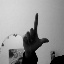l: (22, 11, 50, 56)
